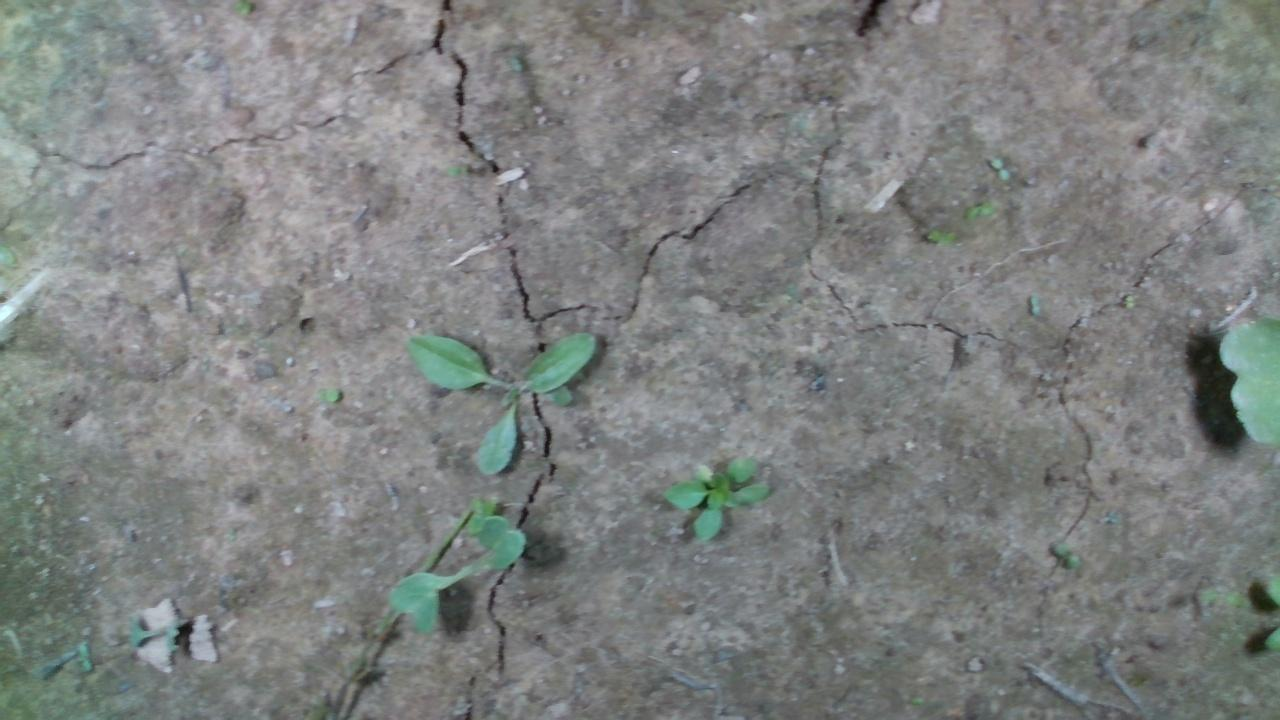weed: (403, 330, 601, 480), (307, 383, 343, 408), (987, 154, 1009, 181), (1028, 293, 1040, 315), (1122, 293, 1136, 309)
